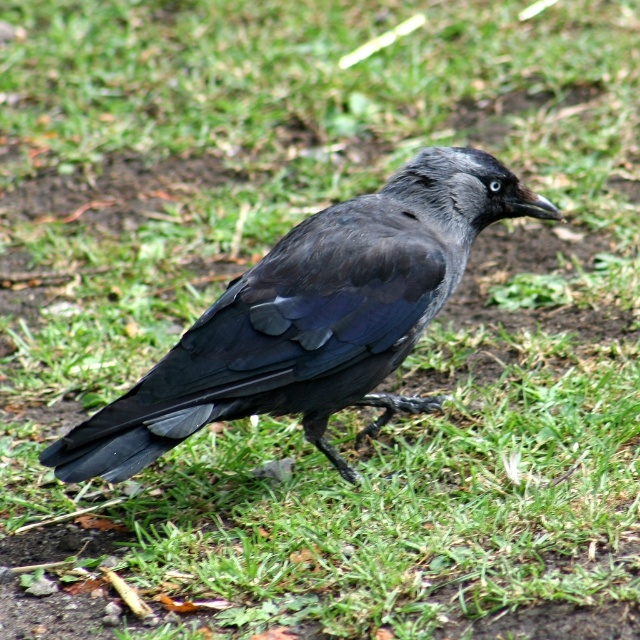Raven: (38, 147, 564, 483)
